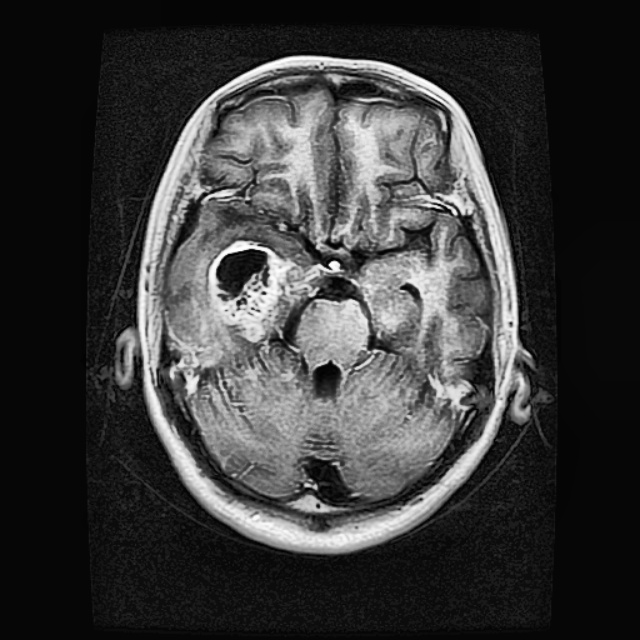Pituitary: (207, 238, 325, 344)
